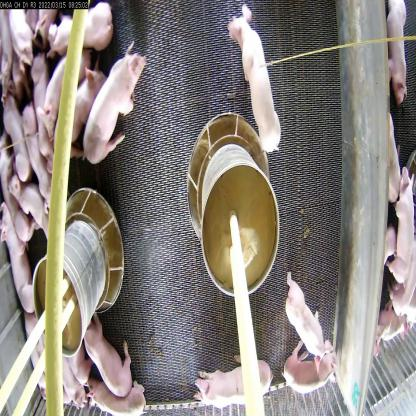Pig: (82, 44, 156, 176), (226, 9, 287, 163), (279, 269, 328, 371), (47, 67, 117, 136), (88, 312, 144, 396), (282, 340, 341, 412), (0, 194, 35, 312), (194, 360, 275, 410), (55, 9, 117, 60), (82, 371, 150, 415)
